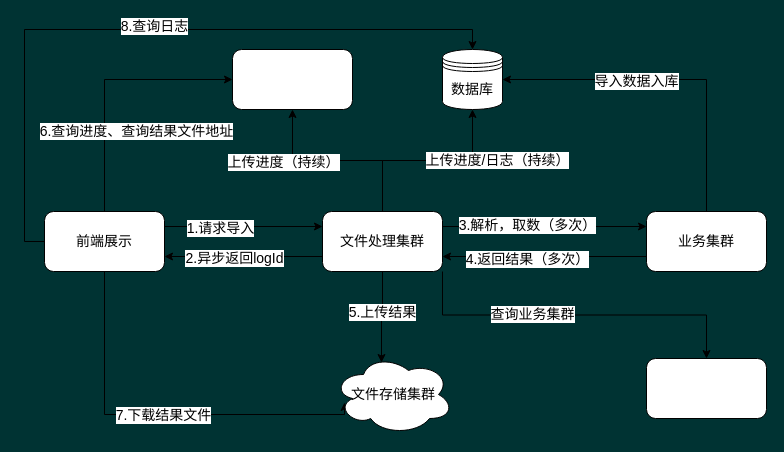
This 784x452 diagram has some shape labels left out. Each missing label, with the centre of its shape:
"模板配置" belongs at (x=706, y=388).
"缓存" belongs at (x=292, y=79).
